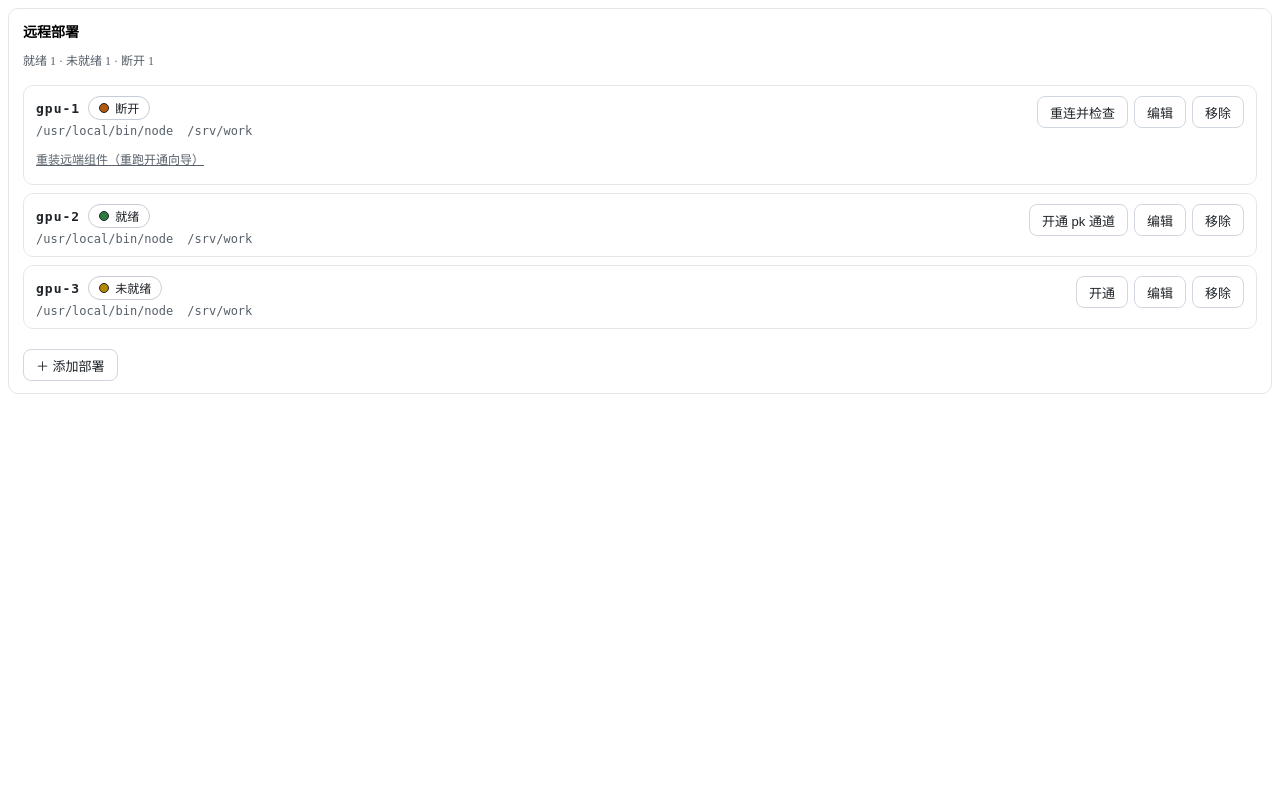
Test case: 断开重连反馈闭环 + 重装入口 › 断开行常驻「重装远端组件」链接（就绪/未就绪行无）；点击 → restart 向导重跑至就绪
The width and height of the screenshot is (1280, 800).
Click the button with test id "deploy-reinstall": (120, 158) x1=36 y1=142 x2=204 y2=174
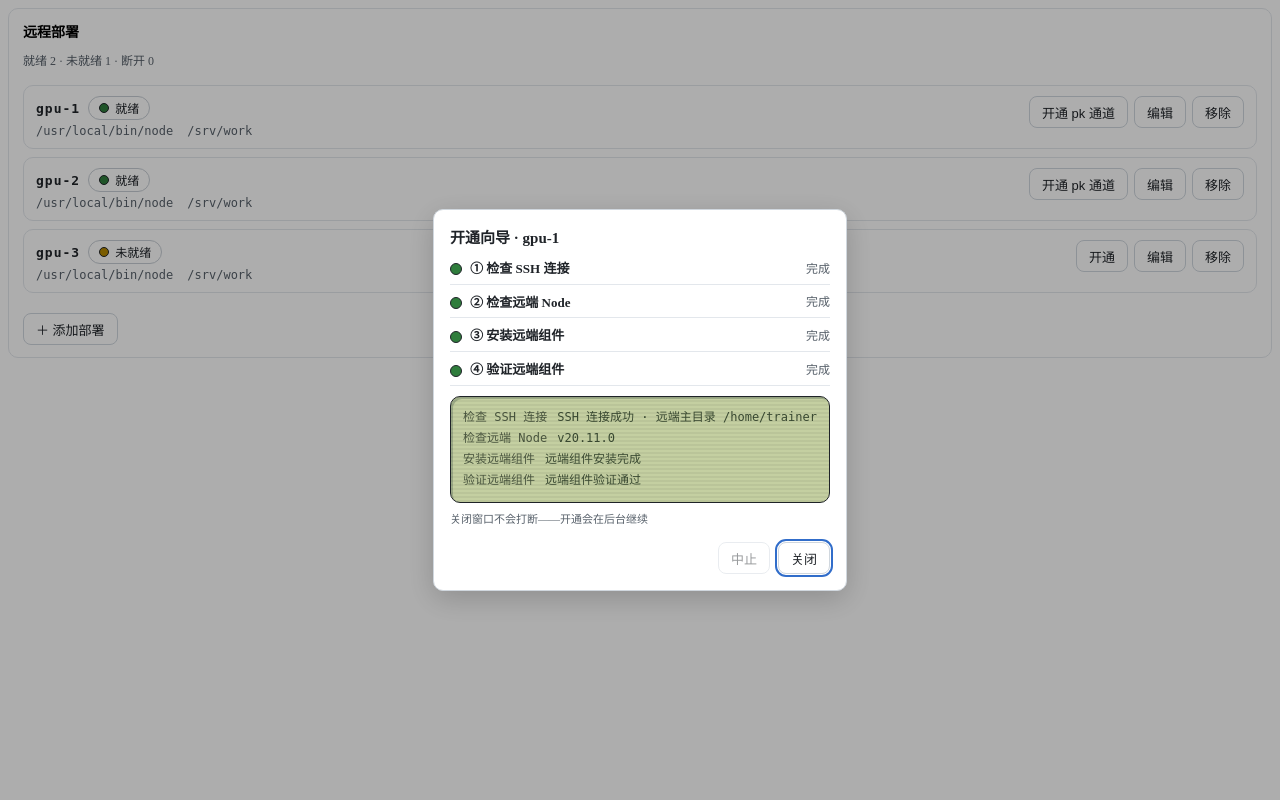
expect the element with test id "deploy-wizard" is shown: met, box x1=450 y1=255 x2=830 y2=528
expect the text "就绪 2 · 未就绪 1 · 断开 0" is shown: met, box x1=23 y1=54 x2=154 y2=68
